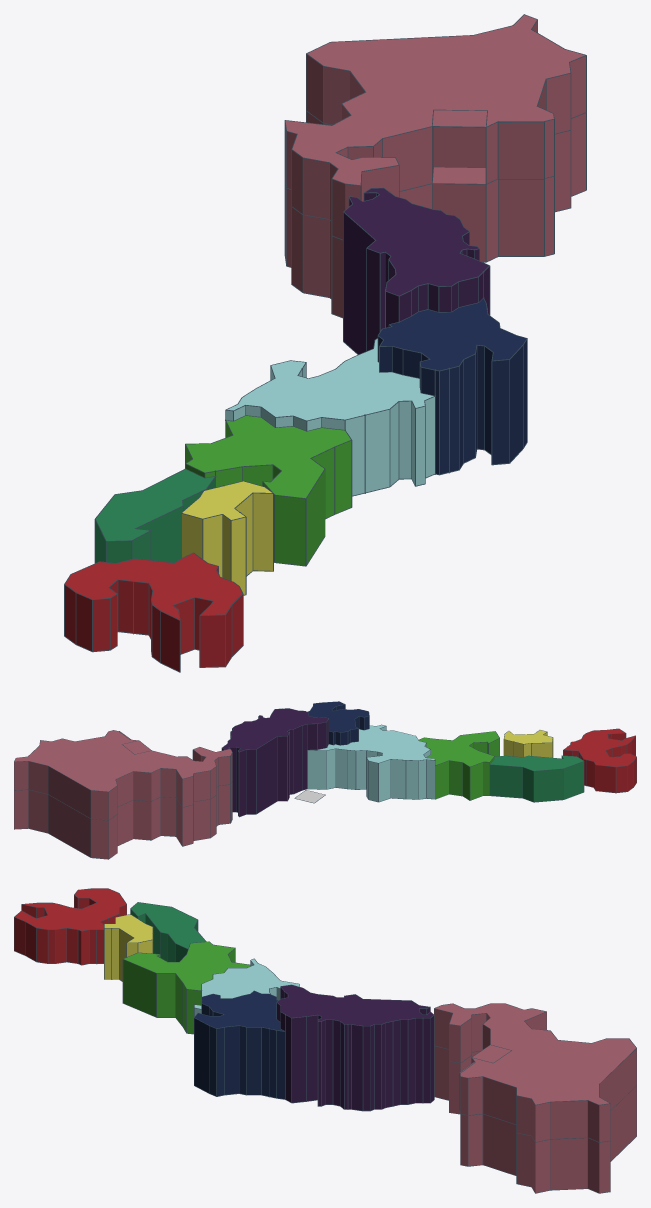
Rendered from japan.glb.
The picture shows the model from 3 angles, top to bottom: view 1: azimuth 30°, elevation 25°; view 2: azimuth 150°, elevation 25°; view 3: azimuth 270°, elevation 25°; orthographic projection. The views are drawn at different scales.
Visible parts, largest first — view 1: object 1, Bloom3D Lines; view 2: object 1, Bloom3D Lines; view 3: object 1, Bloom3D Lines.
Boxes of the visible parts, x1,y1,x2,y2 form: object 1: (65, 15, 585, 671); Bloom3D Lines: (64, 14, 586, 672); object 1: (14, 701, 636, 858); Bloom3D Lines: (14, 701, 636, 859); object 1: (14, 888, 636, 1192); Bloom3D Lines: (14, 888, 636, 1193).
Size of the model in its own units: 85.58 by 13.12 by 83.08.
